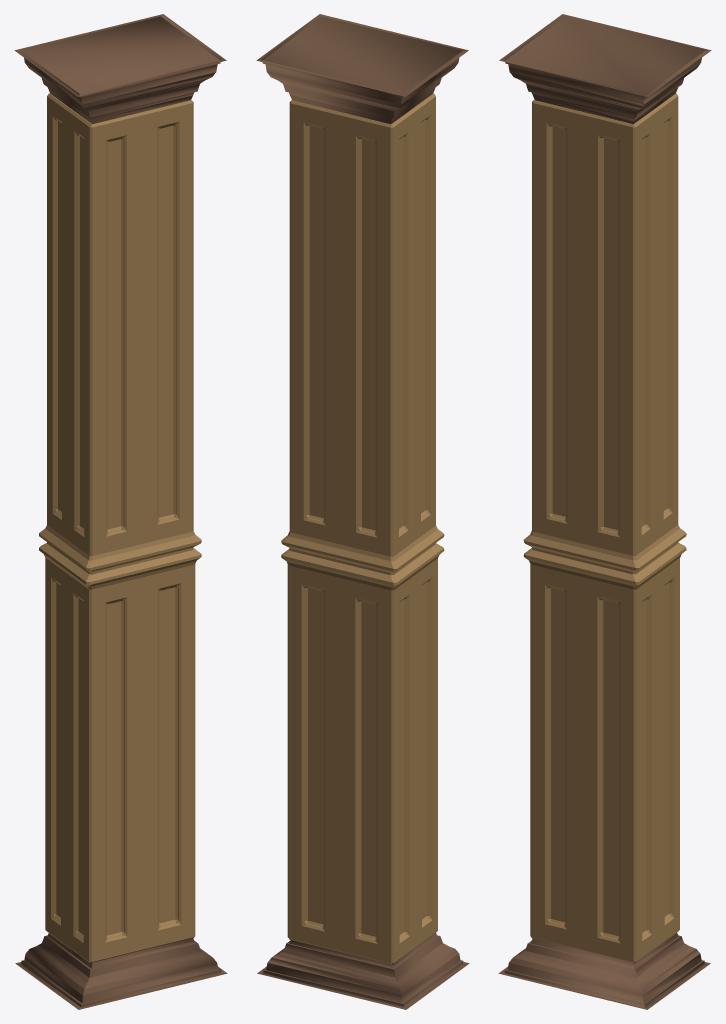
Rendered from Arch_Pillar_large.fbx.
3 views of the same model, side by side, from view 1: azimuth 30°, elevation 25°; view 2: azimuth 150°, elevation 25°; view 3: azimuth 330°, elevation 25° (orthographic).
Visible parts, largest first — view 1: Pillar_large, TopMolding, PillarLarge; view 2: Pillar_large, TopMolding, PillarLarge; view 3: Pillar_large, TopMolding, PillarLarge.
Boxes of the visible parts, box(x1,y1,x2,y2) form: Pillar_large: box(39, 93, 201, 963); TopMolding: box(14, 14, 226, 124); PillarLarge: box(15, 933, 227, 1009); Pillar_large: box(281, 93, 444, 964); TopMolding: box(256, 14, 468, 124); PillarLarge: box(257, 933, 469, 1009); Pillar_large: box(523, 93, 686, 963); TopMolding: box(499, 14, 711, 124); PillarLarge: box(498, 933, 710, 1009).
Bounding box in the file's own units: 58.3 × 341 × 43.59.
